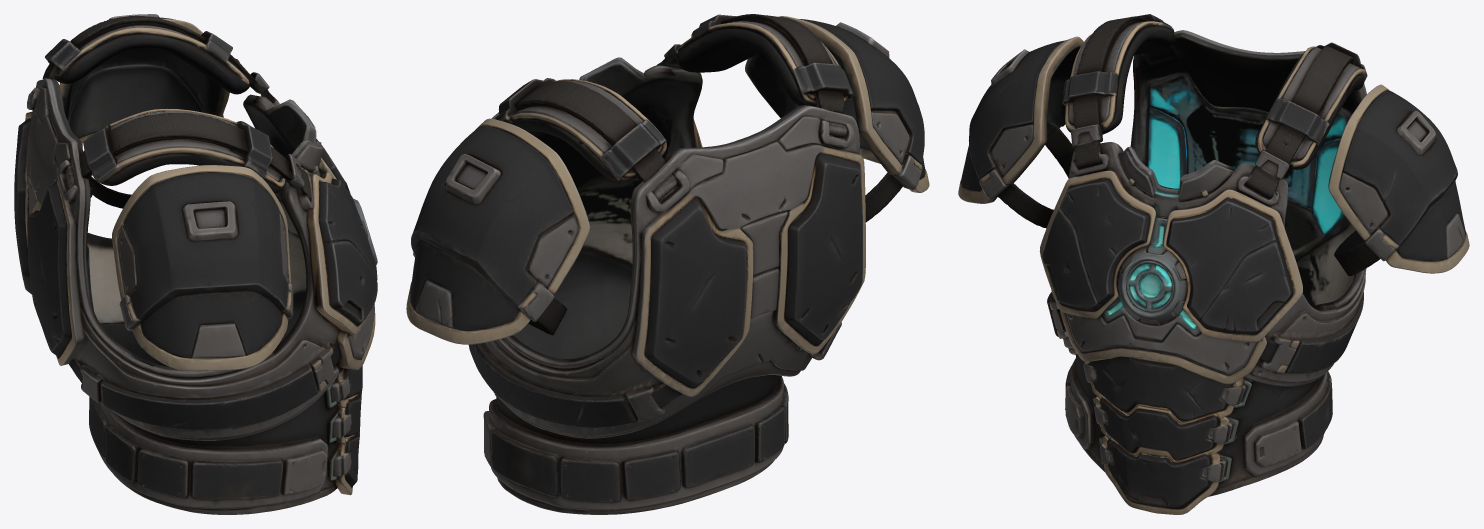
The model's file is chest.glb.
3 views of the same model, side by side, from view 1: azimuth 30°, elevation 25°; view 2: azimuth 150°, elevation 25°; view 3: azimuth 270°, elevation 25° (orthographic). The views are drawn at different scales.
Visible parts, largest first — view 1: tripo_node_6b2152a6-4383-4391-a3fa-0090f8f7ad3c; view 2: tripo_node_6b2152a6-4383-4391-a3fa-0090f8f7ad3c; view 3: tripo_node_6b2152a6-4383-4391-a3fa-0090f8f7ad3c.
Part boxes in pixels (x1,y1,x2,y2): tripo_node_6b2152a6-4383-4391-a3fa-0090f8f7ad3c: [14, 14, 377, 514]; tripo_node_6b2152a6-4383-4391-a3fa-0090f8f7ad3c: [406, 14, 929, 514]; tripo_node_6b2152a6-4383-4391-a3fa-0090f8f7ad3c: [958, 14, 1469, 514].
Bounding box in the file's own units: 0.6486 × 0.8157 × 0.9426.
1 material, 1 textured.
